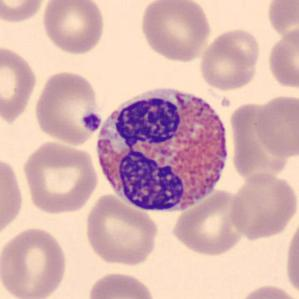Eosinophil: (90, 79, 236, 217)
Platelets: (81, 110, 103, 133)
RBC: (20, 139, 100, 216), (82, 192, 160, 268), (31, 68, 104, 148), (170, 187, 250, 257), (0, 224, 69, 299), (227, 170, 298, 240), (138, 0, 213, 64), (198, 27, 262, 92), (40, 0, 107, 56), (0, 43, 39, 127), (252, 92, 298, 159), (0, 153, 26, 242), (266, 24, 299, 91), (86, 269, 158, 299), (282, 214, 299, 298), (265, 0, 298, 40), (0, 0, 49, 25), (233, 282, 298, 299)
